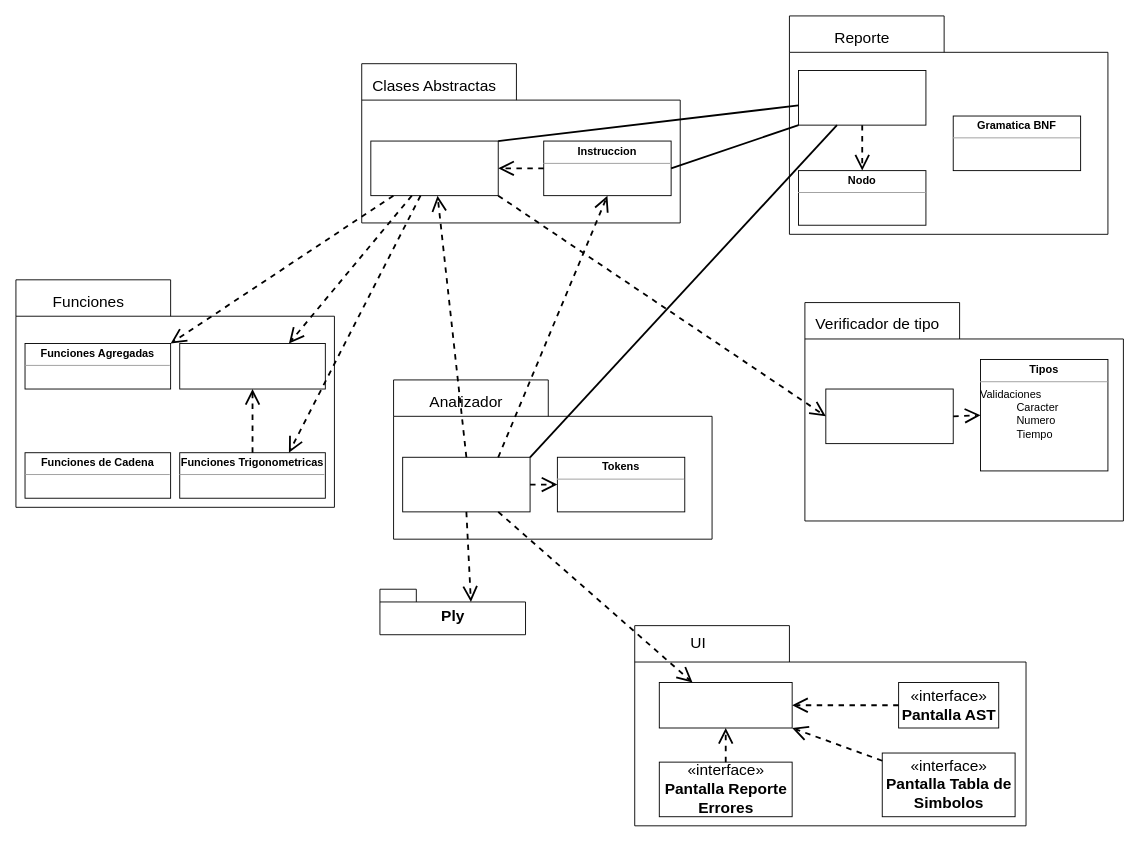
Image size: 1139x842. Some labels were removed from this diagram. The box of each missing label's shape, as (x1, y1, x2, y2) in pixels:
AST: (798, 70, 926, 125)
Checker: (825, 388, 953, 444)
Expresion: (370, 140, 498, 196)
Funciones Matemáticas: (179, 343, 325, 389)
Gramatica: (402, 456, 530, 512)
«interface» Pantalla Principal: (658, 682, 792, 728)
